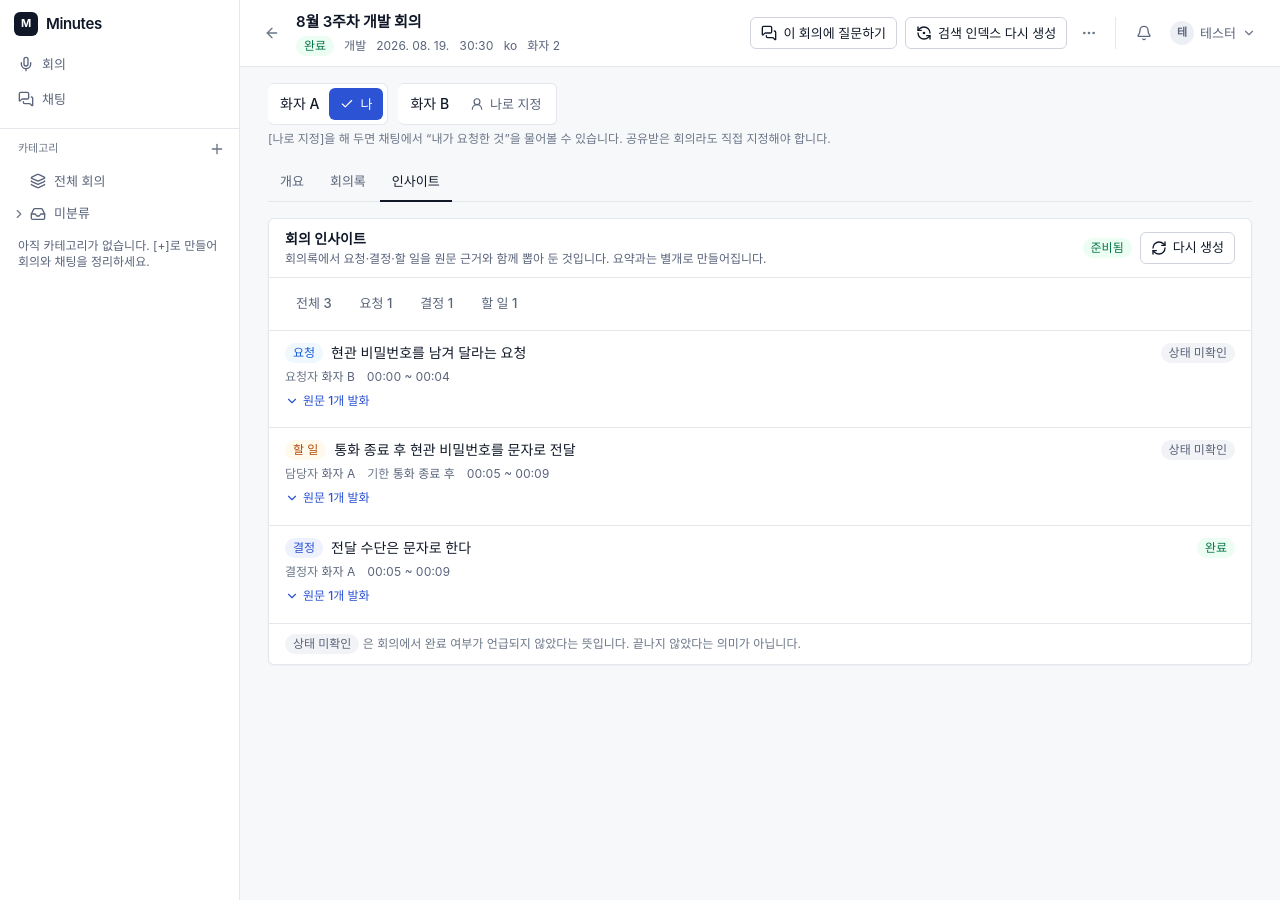
Test: 회의 인사이트 › 종류로 목록을 거를 수 있다
The width and height of the screenshot is (1280, 900).
Step 1. Click the button "요청 1" → [376, 304], box [348,288,403,320]
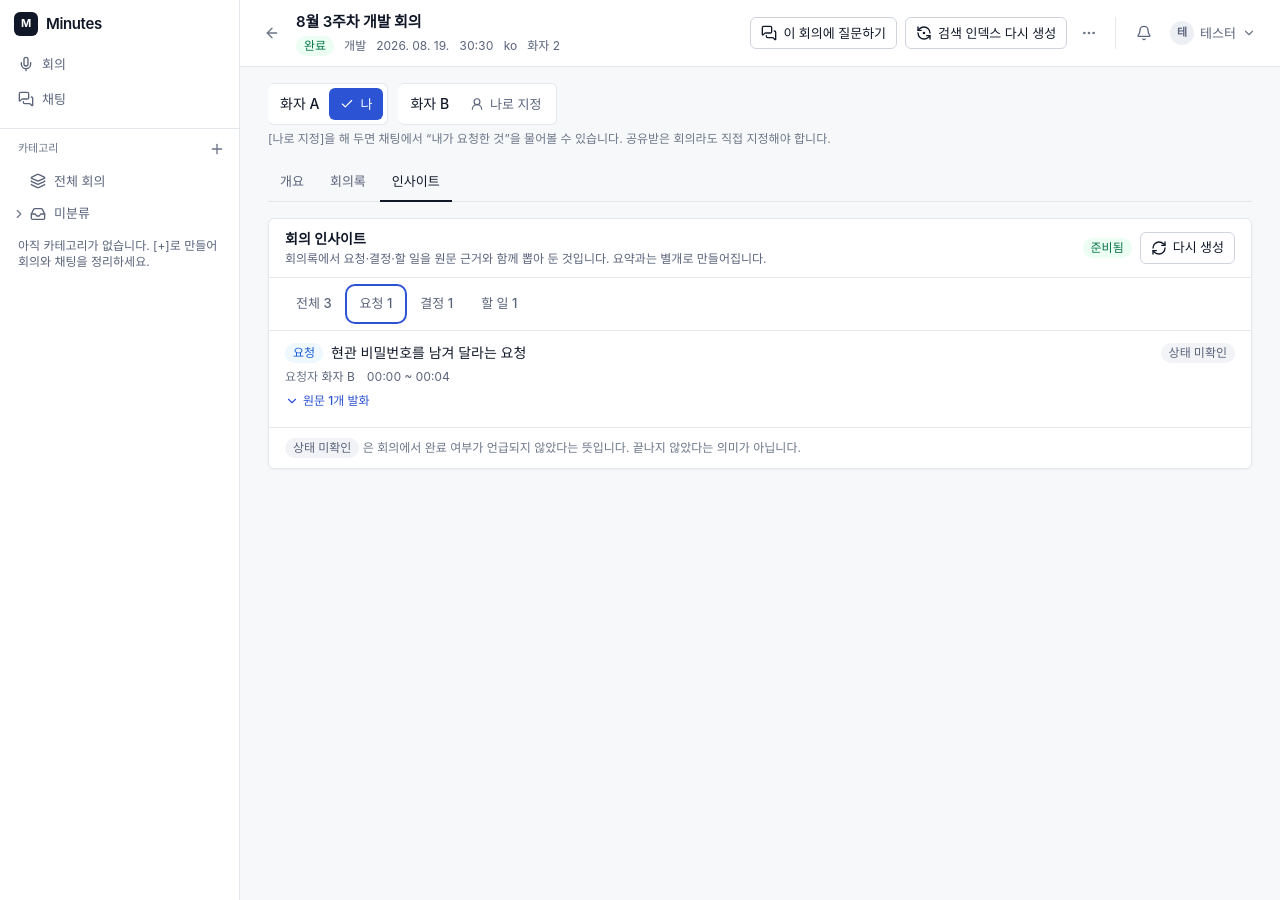
Expected: the text "현관 비밀번호를 남겨 달라는 요청" is shown, [331,344,526,361]
Now the text "전달 수단은 문자로 한다" is gone
